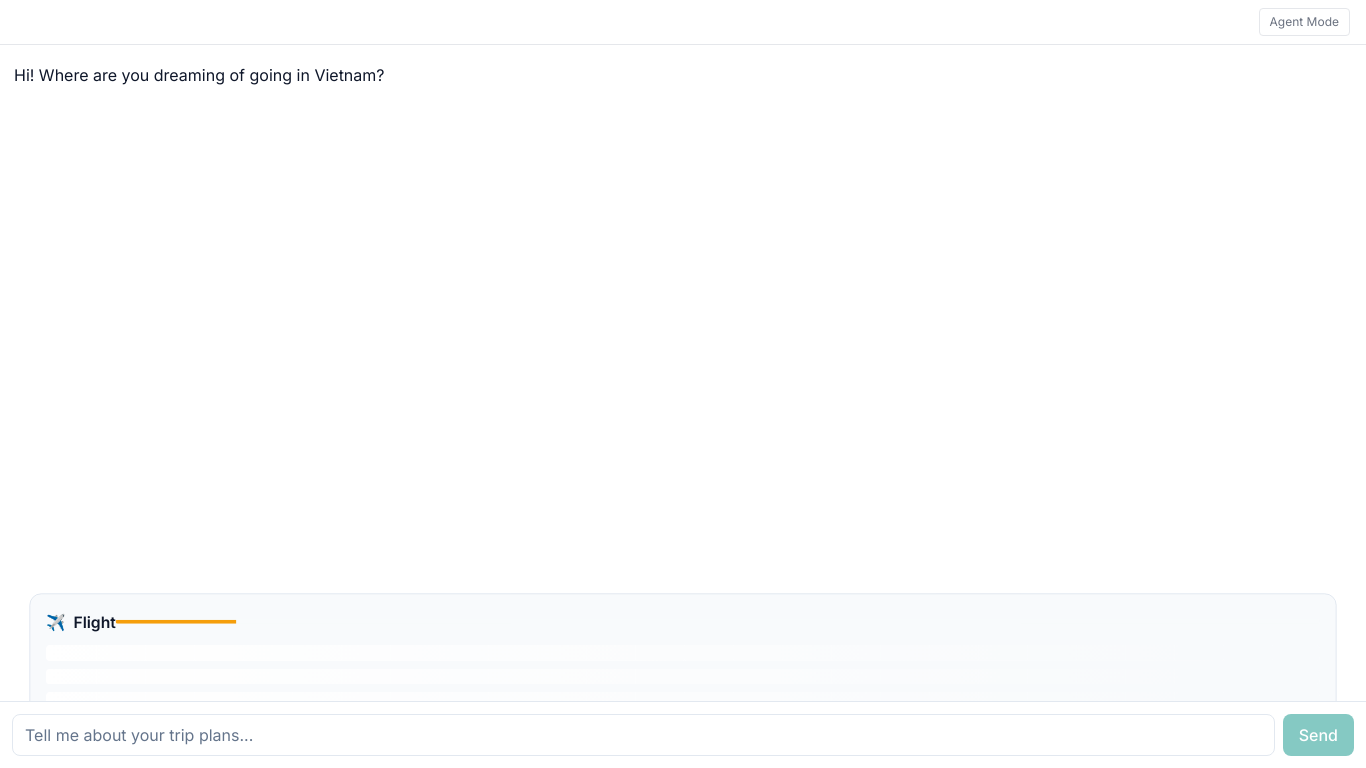
Test case: DemoPage — destination card (AC2, AC3, AC4, AC5, AC6) › AC4: after mood Surprise me → destination card visible
The image size is (1366, 768).
Type "Looking for ideas" into the field with test id "chat-input" at [643, 735], box [12,714,1275,756]
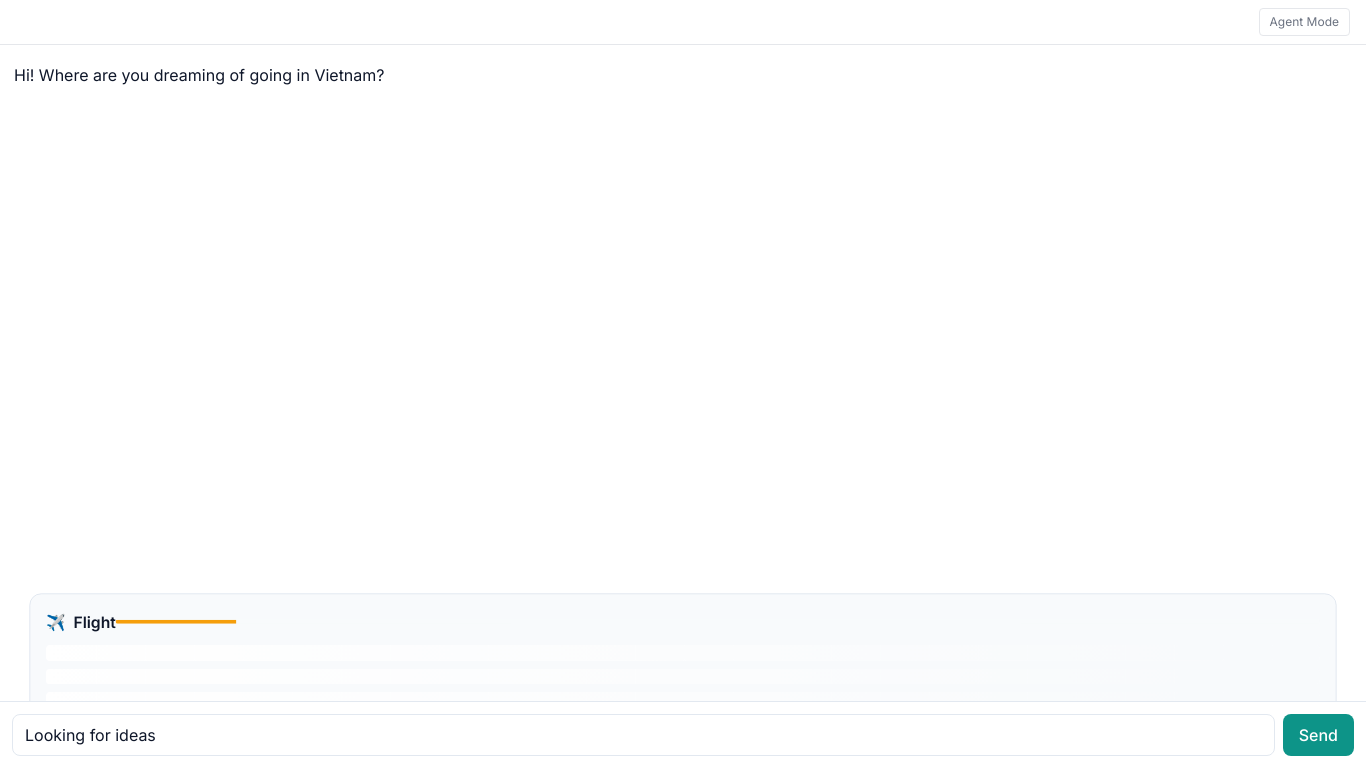
Submit the form with test id "chat-input", box [0,702,1365,767]
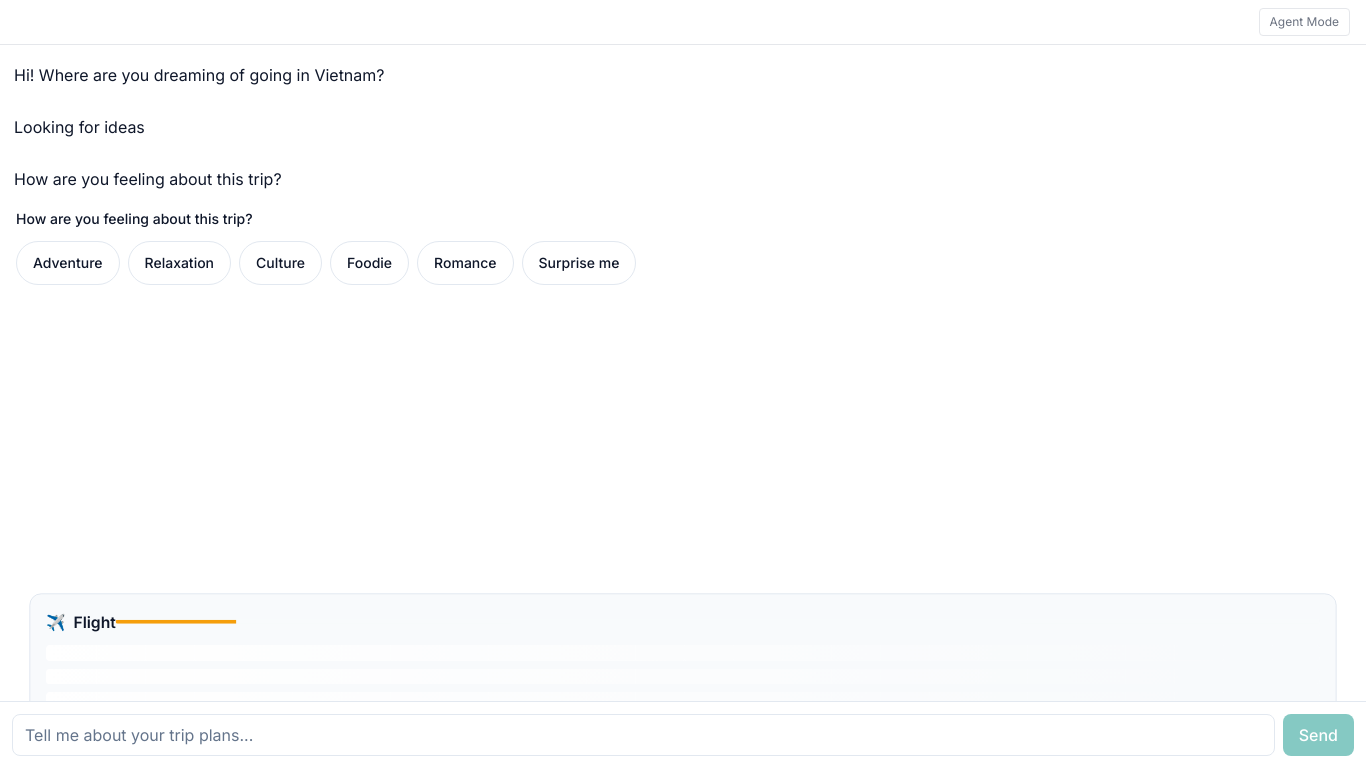
Click the radio button labelled "Surprise me" at [579, 263], box [522,241,636,285]
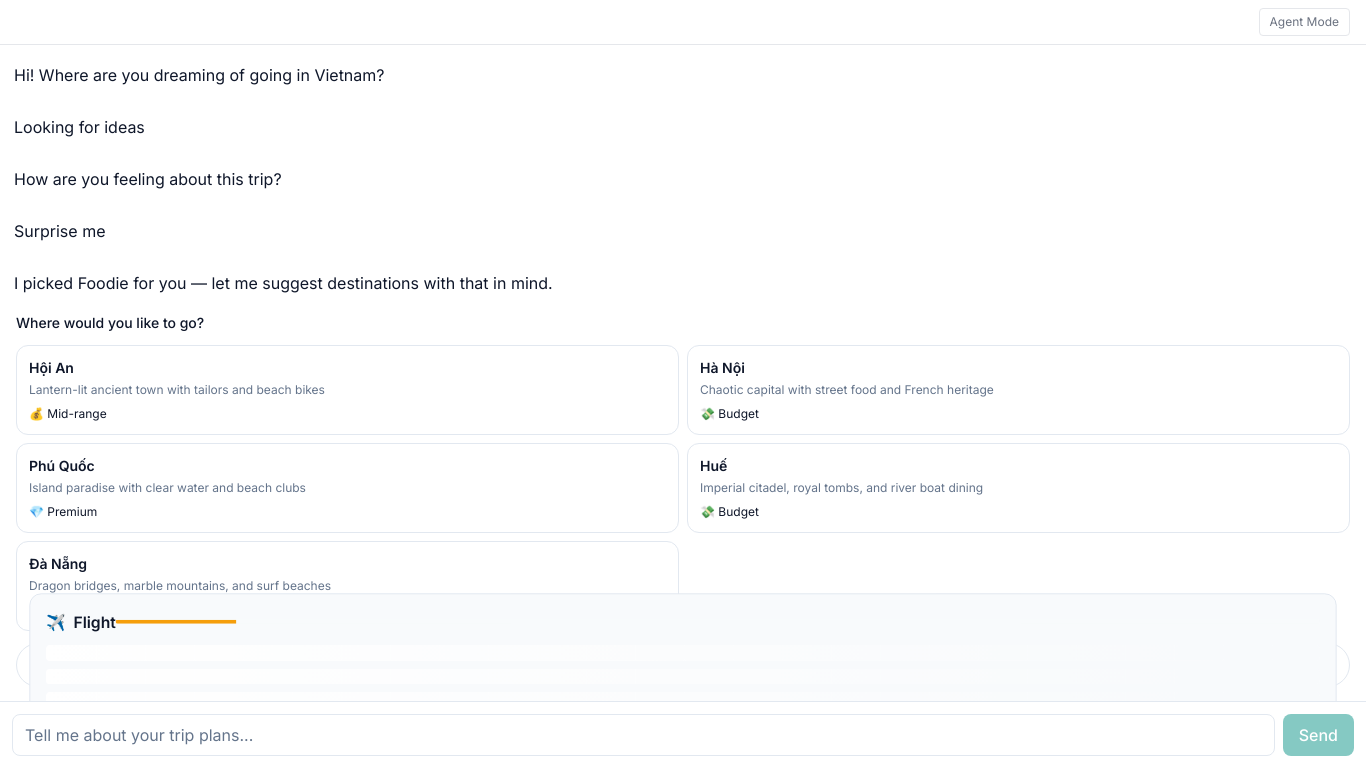
Expected: the radio button labelled "Adventure" is gone
Expected: the radio button labelled "Hội An" is shown, [16,345,679,435]
